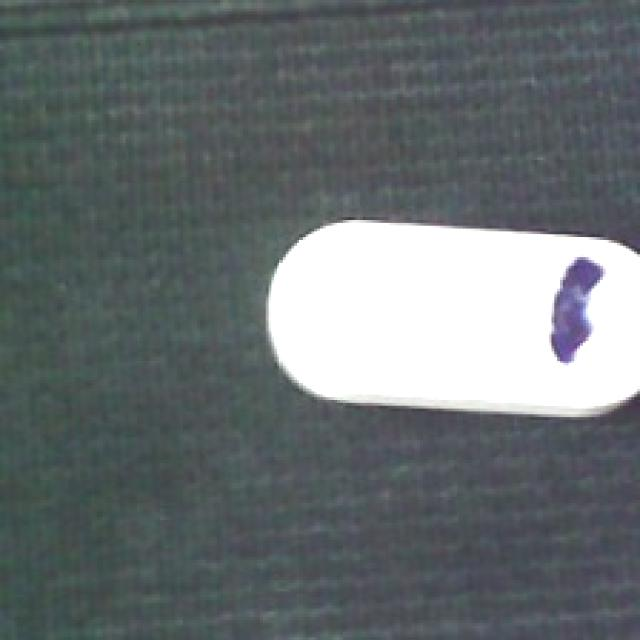defected: (266, 214, 640, 422)
